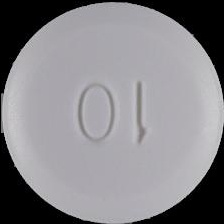67296-0673: (0, 0, 224, 224)
